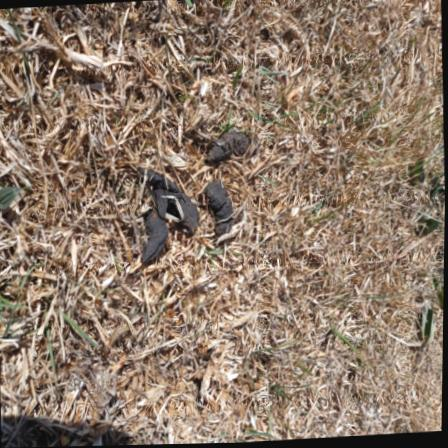dog-poop: (197, 104, 276, 244), (125, 171, 203, 254)
